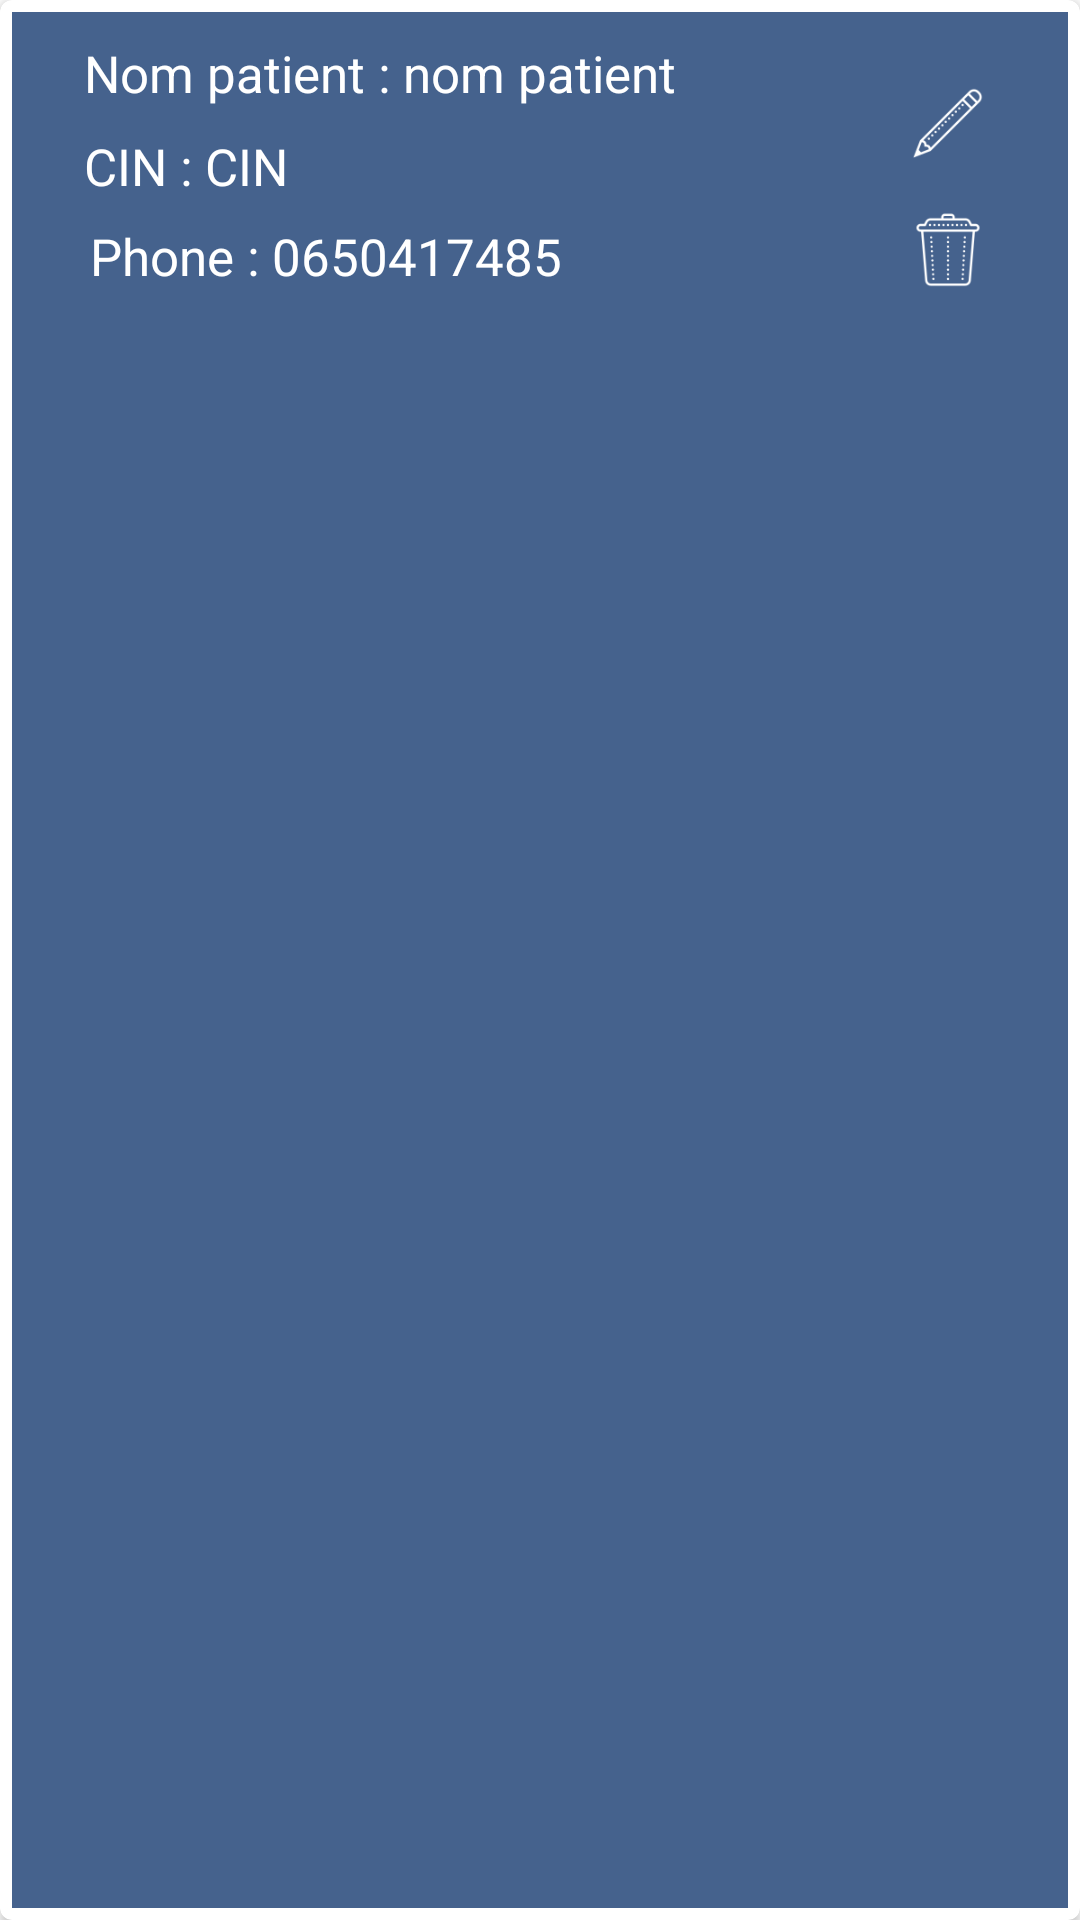

Locate icon controls on the screen. Image size 1080w x 1920h, boxes as box=[x1, y1, x2, y2].
delete rdv: box=[916, 213, 980, 286]
edit rdv: box=[913, 89, 982, 158]
